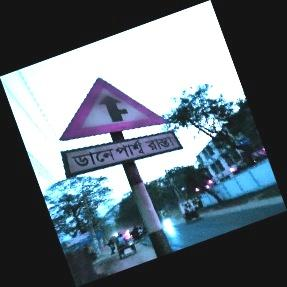Side-road-right: (58, 78, 184, 178)
